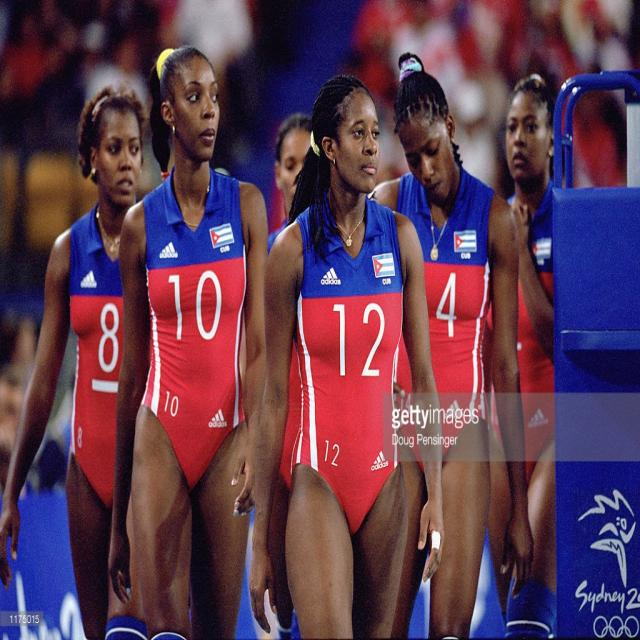body: (0, 0, 640, 254), (245, 66, 449, 639), (358, 49, 538, 639), (104, 42, 272, 639), (0, 79, 150, 640), (484, 70, 558, 640), (0, 304, 80, 494)
